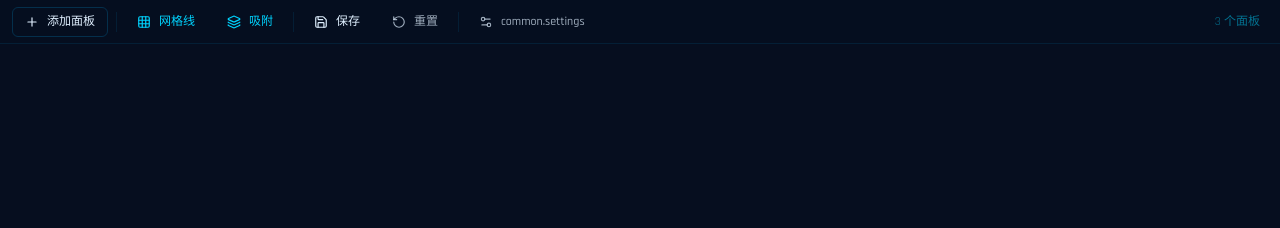
Test: PanelToolbar › 添加面板菜单 → 选择类型 → 新面板入列表
The image size is (1280, 228).
Click the button "添加面板".
click(60, 22)  # box [12,6,108,36]
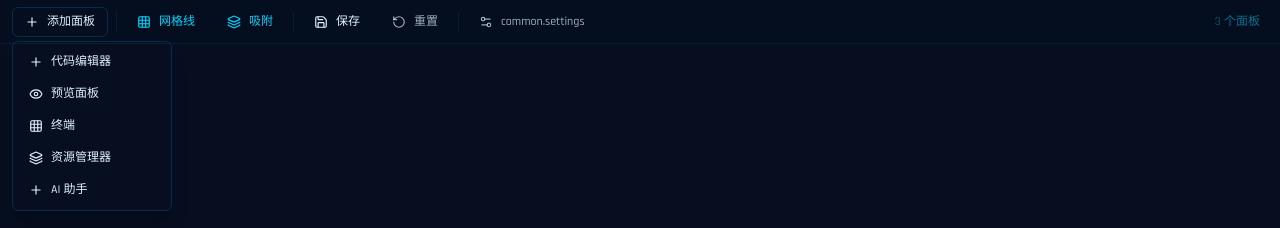
Expected: the button "代码编辑器" is shown
点第一项（code-editor）
Click the button "代码编辑器".
click(92, 62)  # box [17,46,167,78]
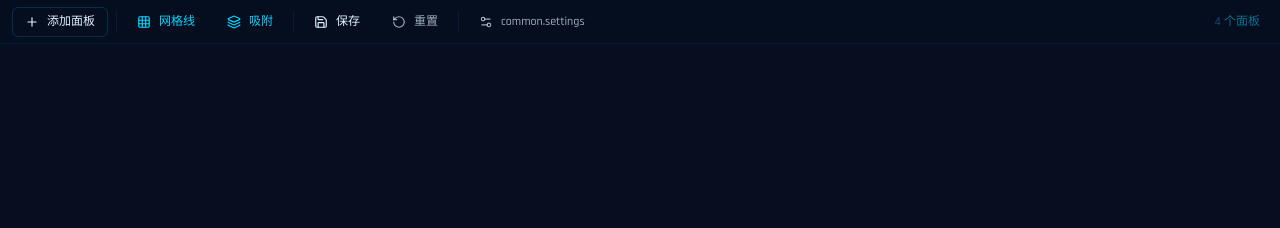
Expected: no elements with class "top-full" are shown
